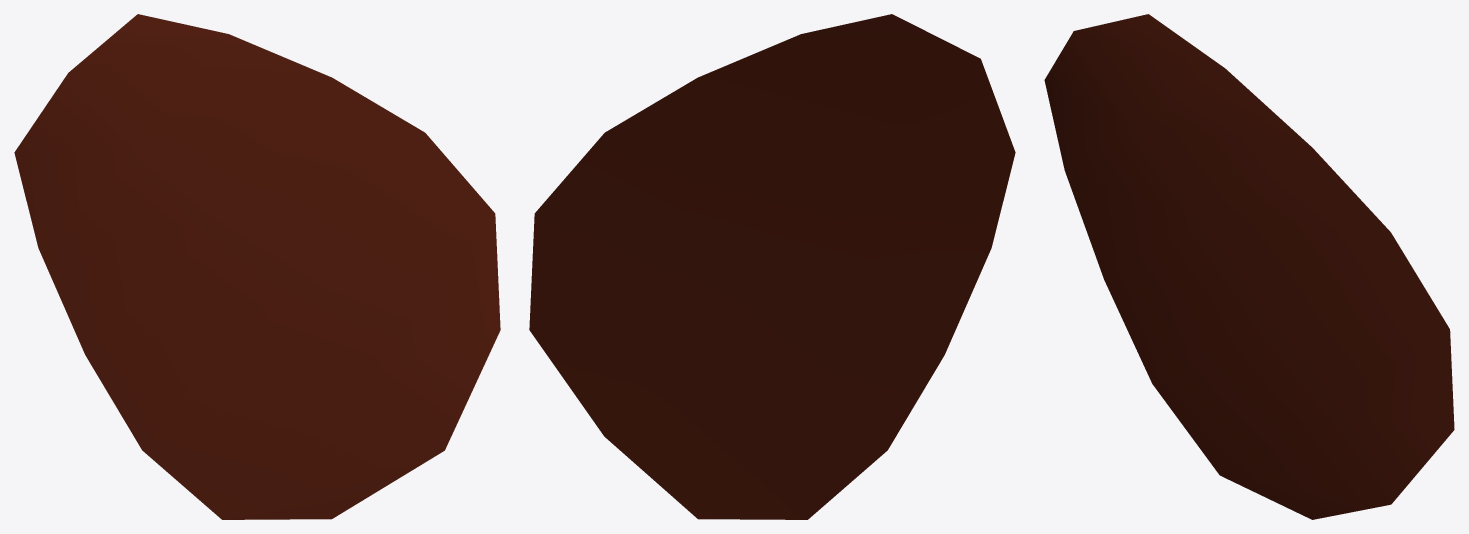
Rendered from finch_feather_flight_tertiary_025.obj.
The picture shows the model from 3 angles, left to right: view 1: azimuth 30°, elevation 25°; view 2: azimuth 150°, elevation 25°; view 3: azimuth 330°, elevation 25°; orthographic projection. The views are drawn at different scales.
Parts seen in each view (by area): view 1: feather_flight_tertiary_025; view 2: feather_flight_tertiary_025; view 3: feather_flight_tertiary_025.
Boxes of the visible parts, x1,y1,x2,y2 form: feather_flight_tertiary_025: (14, 14, 500, 519); feather_flight_tertiary_025: (529, 14, 1015, 519); feather_flight_tertiary_025: (1044, 14, 1454, 519).
Bounding box in the file's own units: 0.00444 × 0.00483 × 0.000152.
